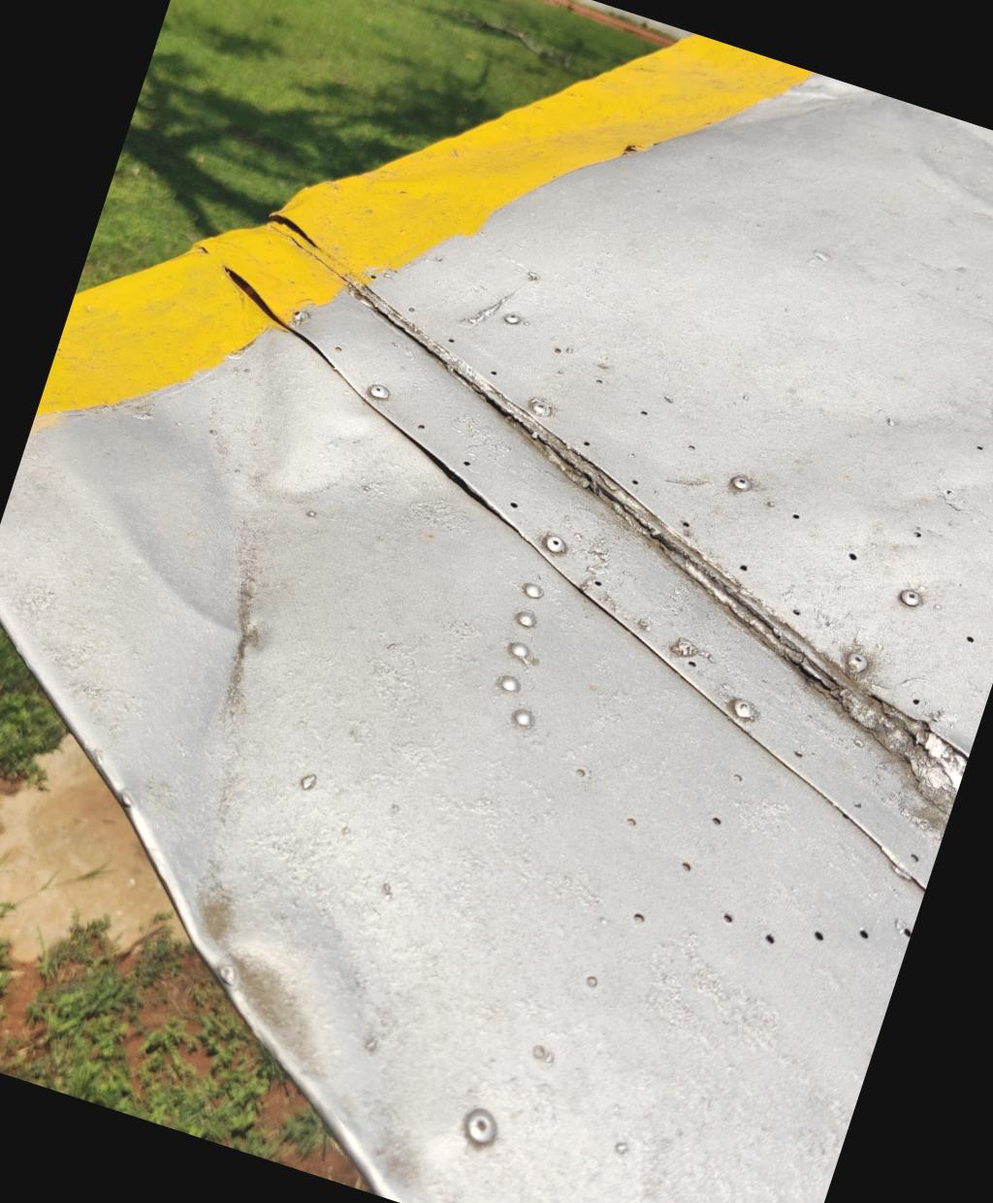dent: (35, 671, 660, 1203)
